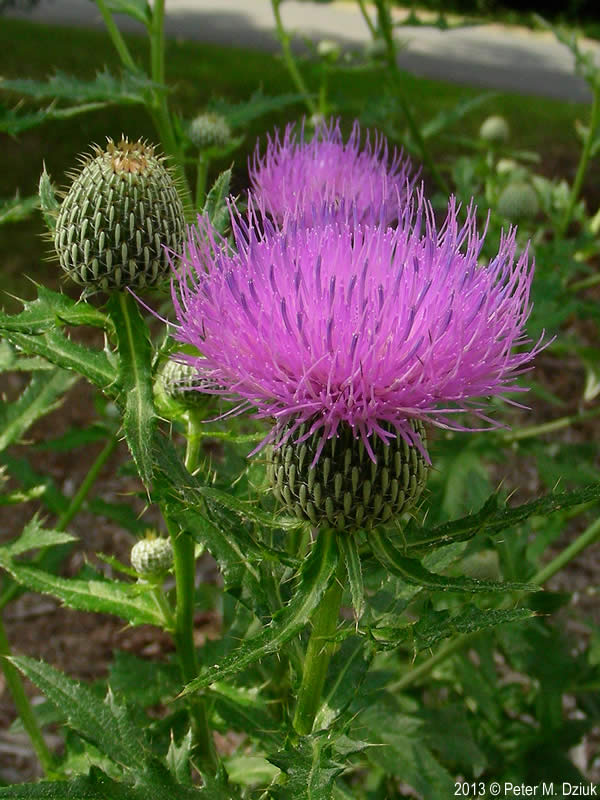thistle: (180, 224, 544, 547), (237, 122, 418, 225)
